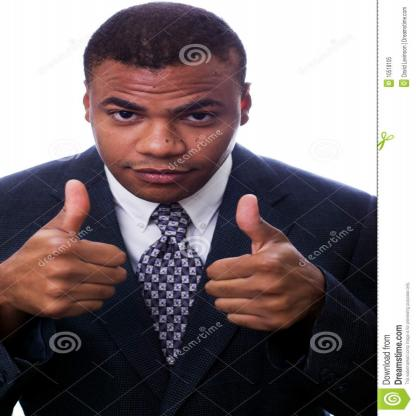Thumbs-Up: (175, 186, 329, 354), (5, 169, 140, 335)
